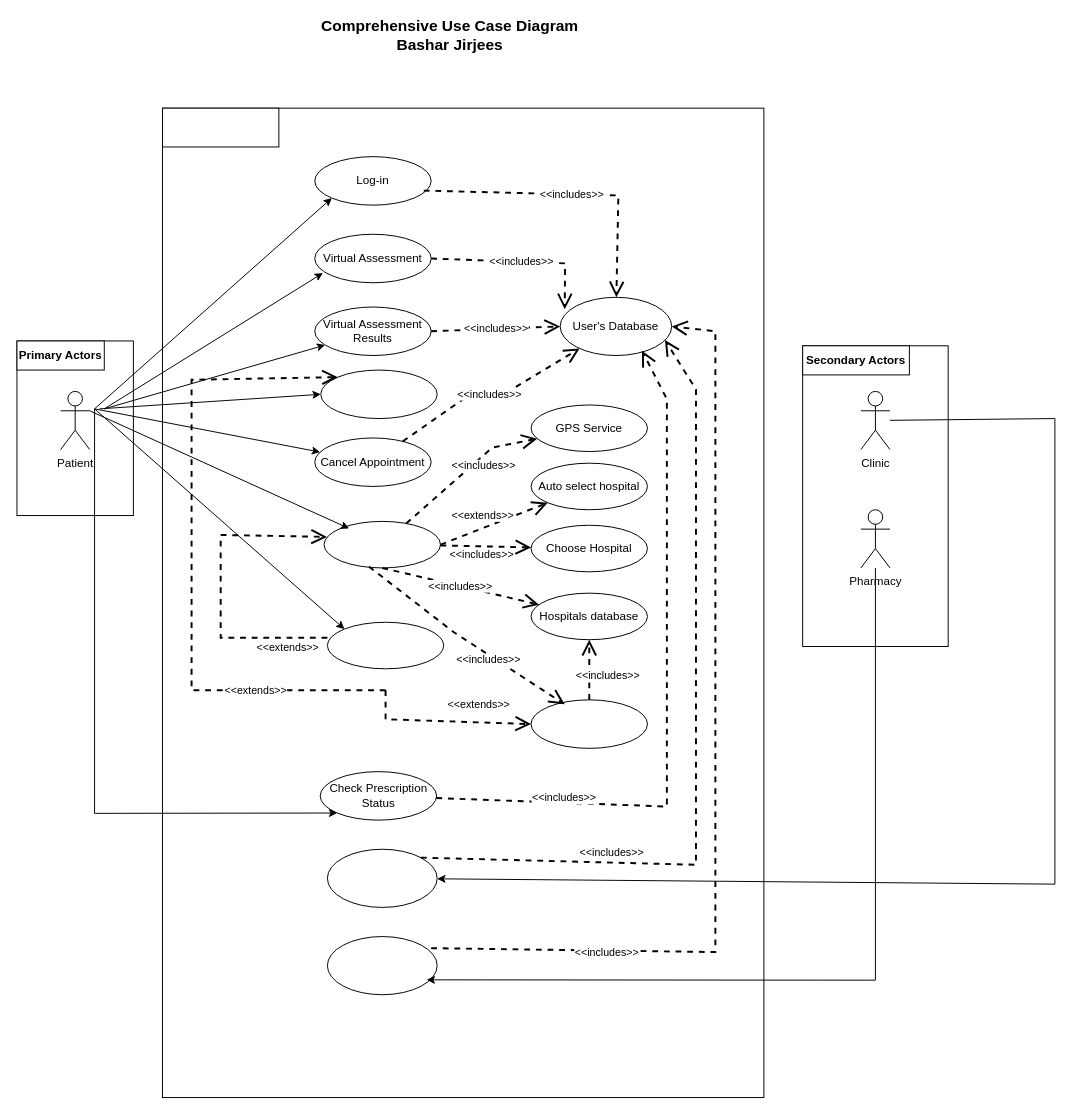
Image size: 1080x1115. Some labels were removed from this diagram. The shapes that lost their labels are listed below. From the top down, each one's centre as x and y in pixels, then its label:
[220,127]: Mister Ed
[378,394]: Book appointment
[381,544]: Search Hospitals
[385,645]: Call staff/Live chat
[588,723]: Check ED Load and Admission Times
[381,877]: Check Patient Info
[381,965]: Disburse Meds
